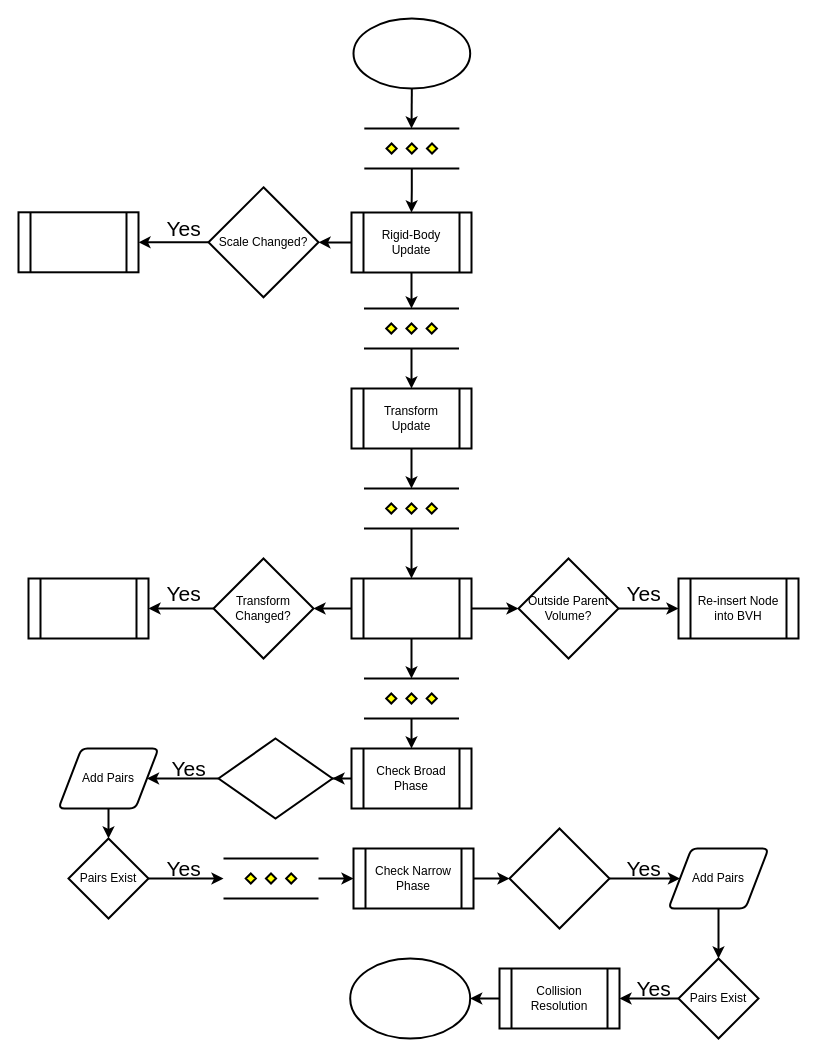
Image size: 816x1056. Some labels were removed from this diagram. The centre of each missing label's shape, as x and y in pixels:
"Broad Phase Collisions?" belongs at point (275, 778).
"Calculate Inertia Tensor" belongs at point (78, 242).
"Collider Update" belongs at point (411, 608).
"END" belongs at point (410, 998).
"Narrow Phase Collisions?" belongs at point (559, 878).
"Recalculate Bounding Shape" belongs at point (88, 608).
"Start" belongs at point (411, 53).
